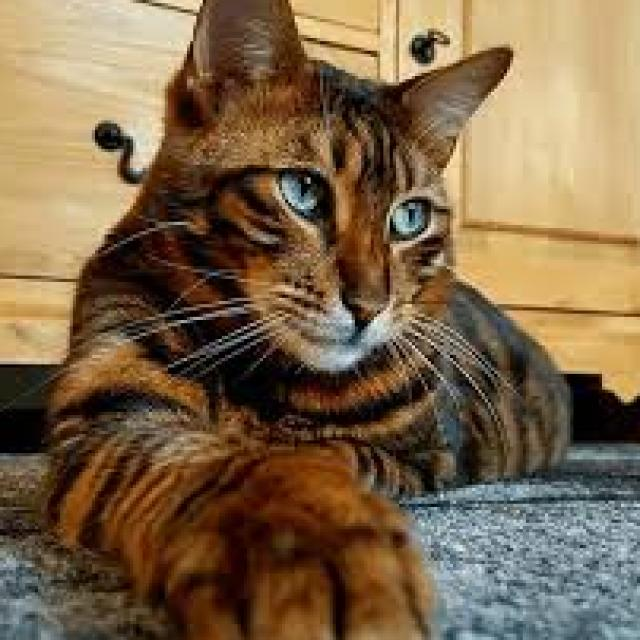Toyger: (38, 0, 577, 640)
